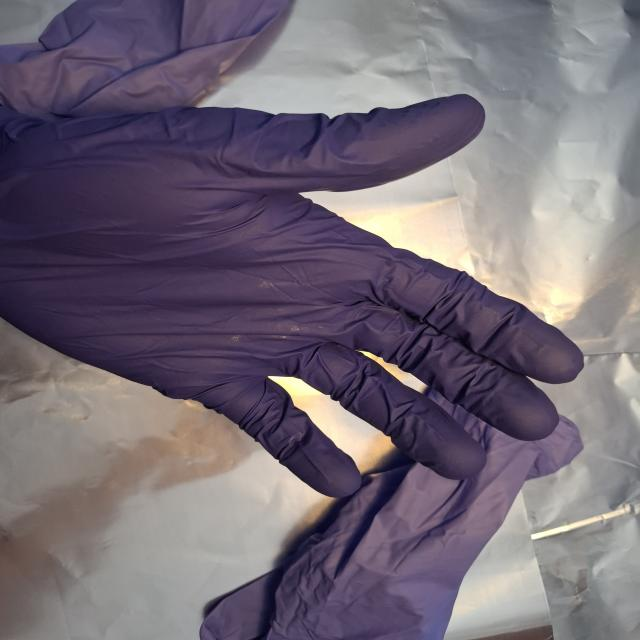glove_on: (0, 86, 589, 501)
